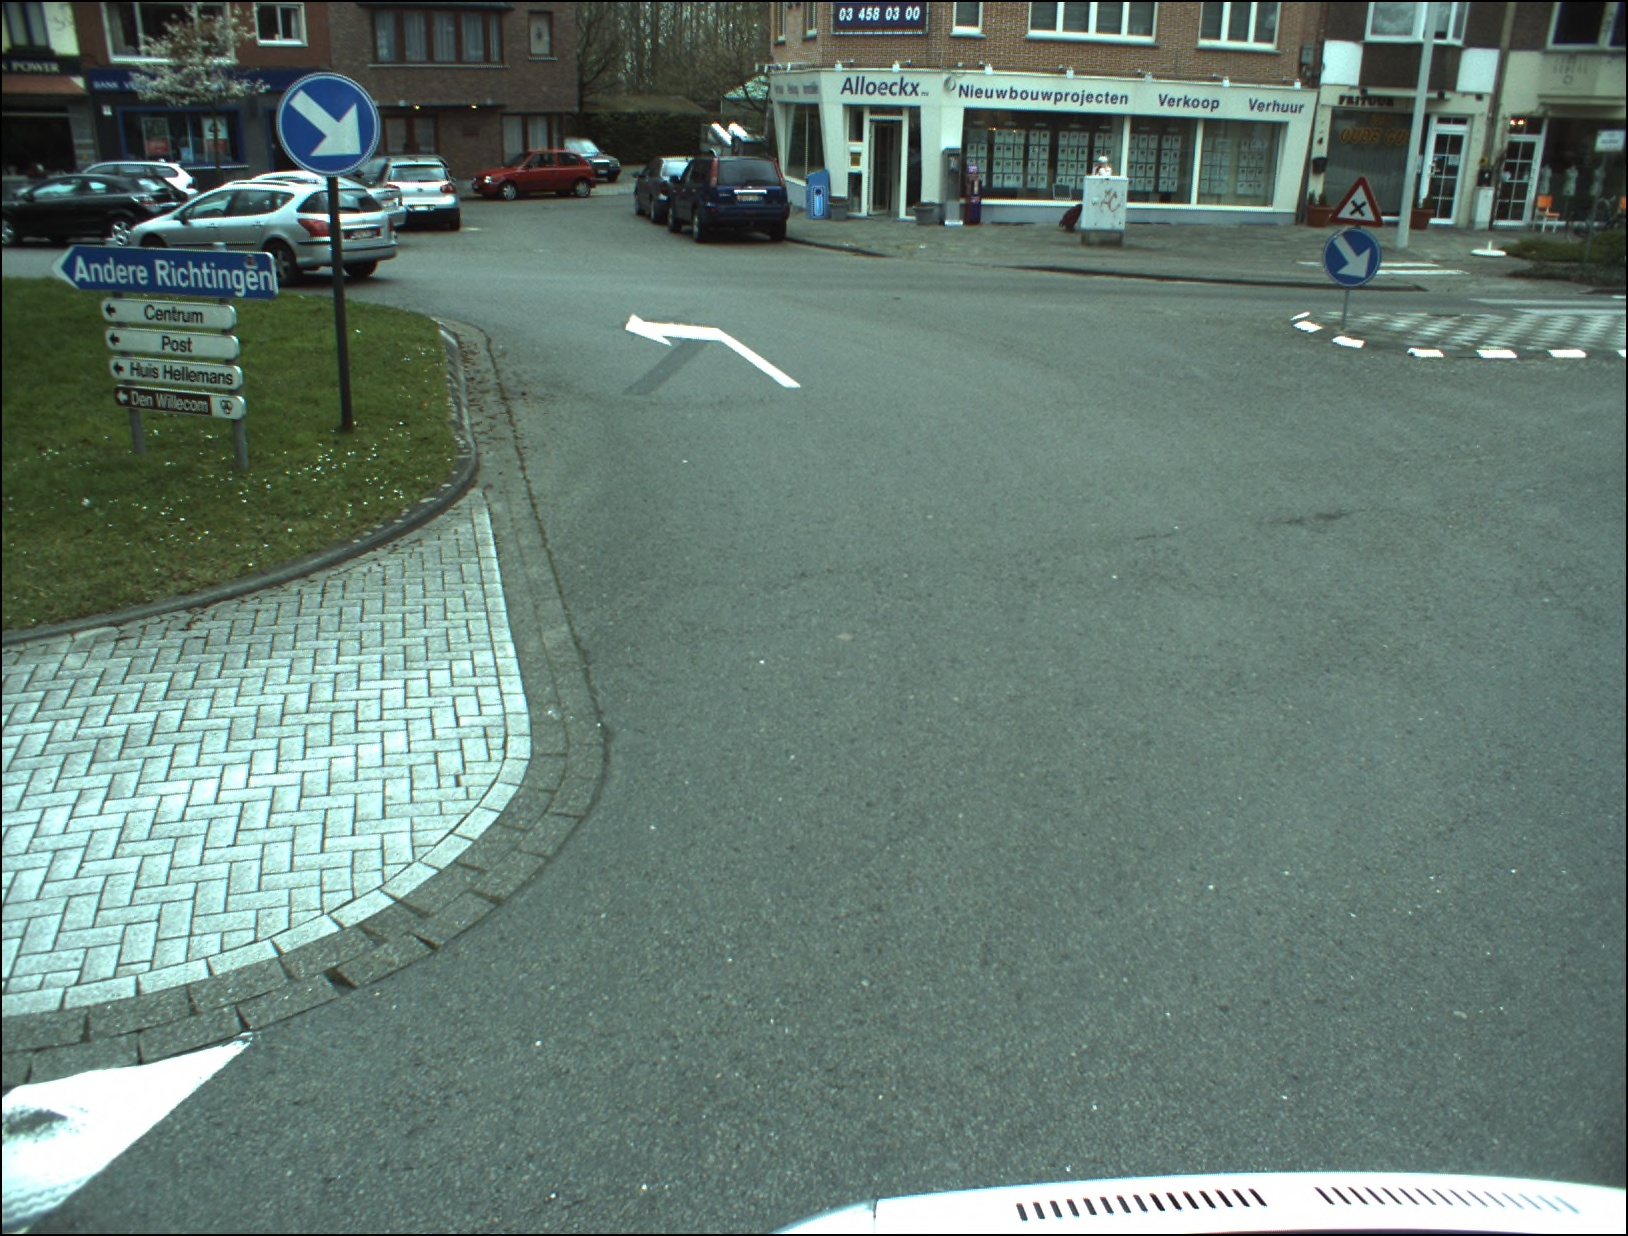passright: (277, 75, 376, 175), (1322, 229, 1377, 286)
